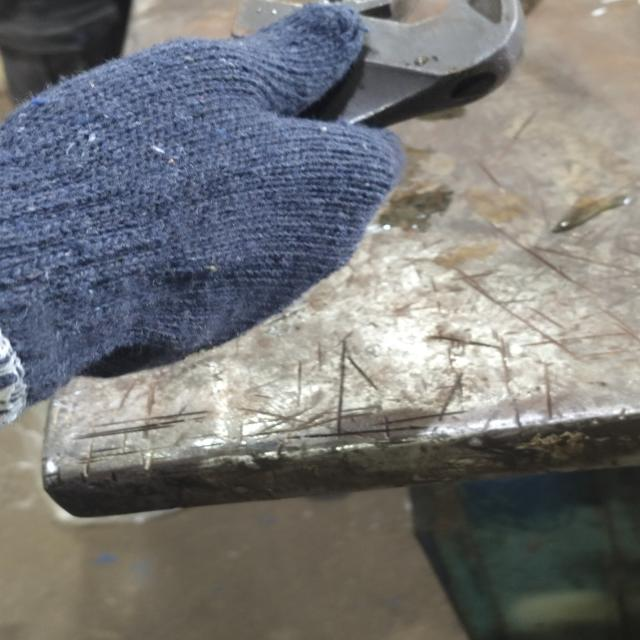Gloves-Detection: (2, 22, 395, 400)
